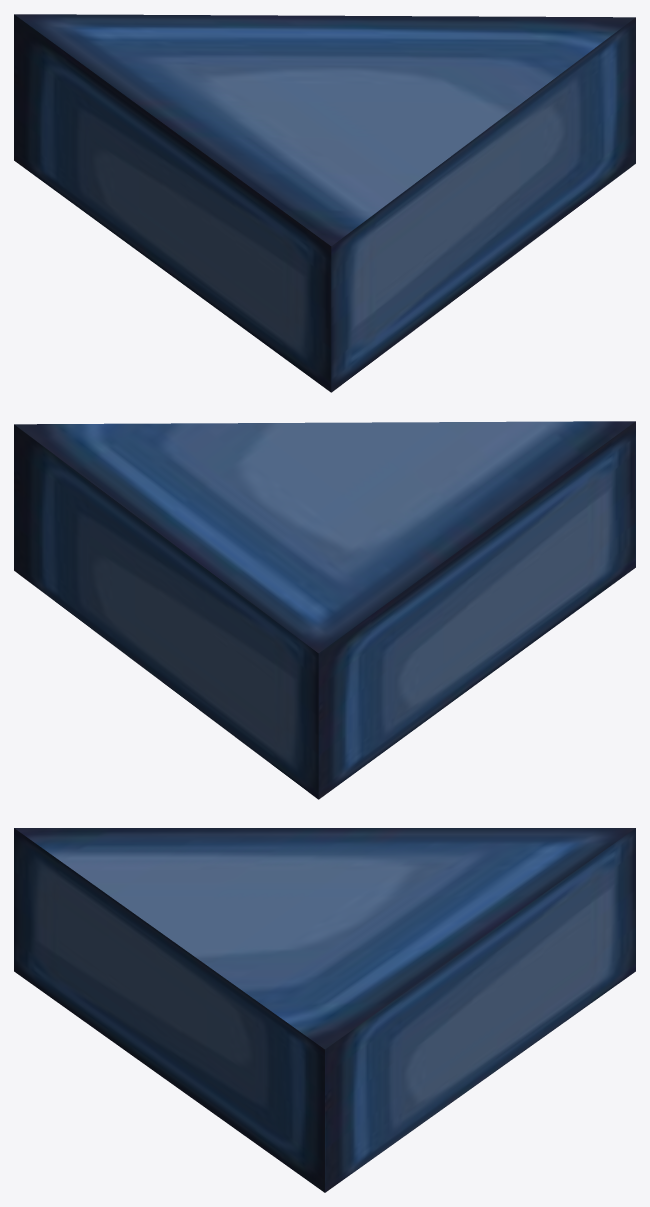
File: Blue triangle.fbx
The picture shows the model from 3 angles, top to bottom: view 1: azimuth 30°, elevation 25°; view 2: azimuth 150°, elevation 25°; view 3: azimuth 270°, elevation 25°; orthographic projection. The views are drawn at different scales.
Visible parts, largest first — view 1: Cube.1491; view 2: Cube.1491; view 3: Cube.1491.
Part boxes in pixels (<box>): Cube.1491: <box>14,14,635,392</box>; Cube.1491: <box>14,421,635,799</box>; Cube.1491: <box>14,828,635,1192</box>.
Bounding box in the file's own units: 52.83 × 15.94 × 62.68.
